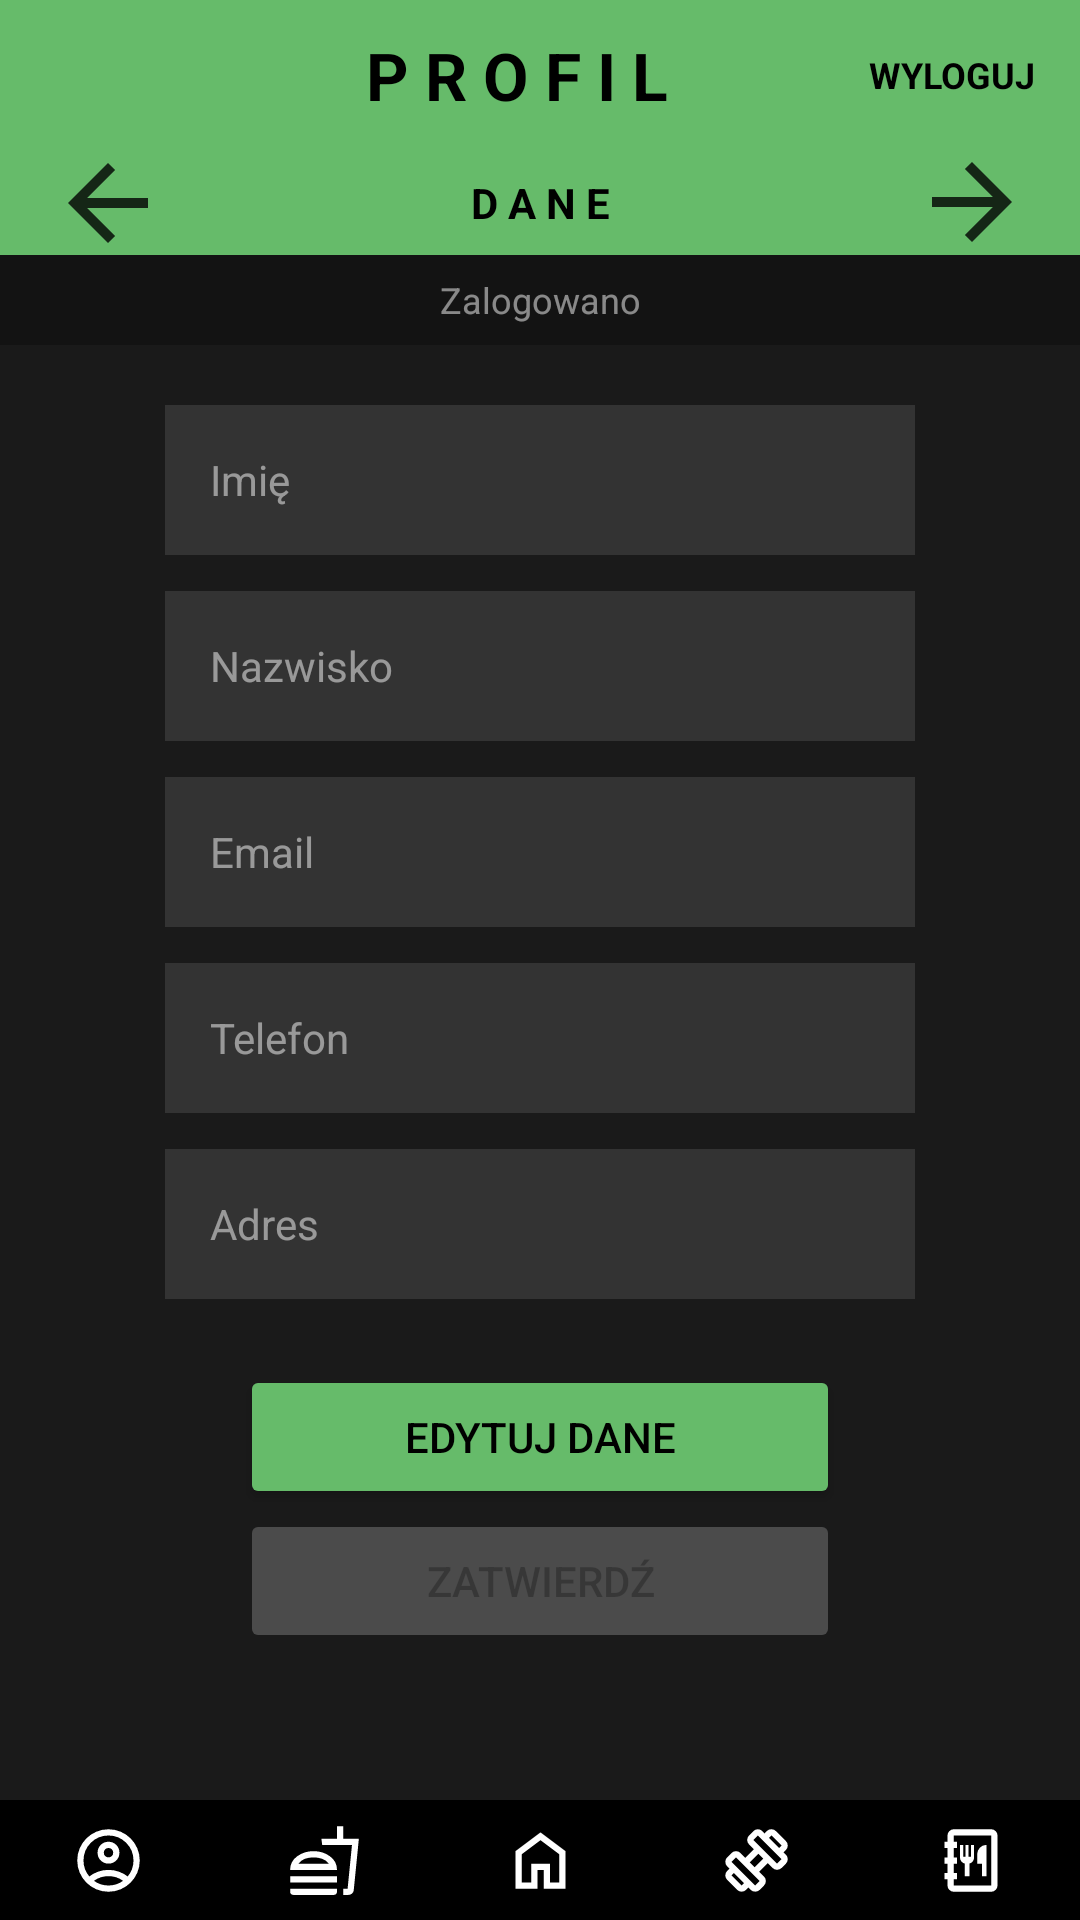

Point at icon controls on the screen. Image size 1080x1920, points as point (x, y).
home: point (540, 1860)
profil: point (108, 1860)
trening: point (756, 1860)
